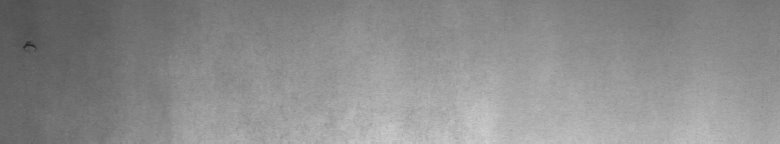fi: (22, 36, 37, 56)
